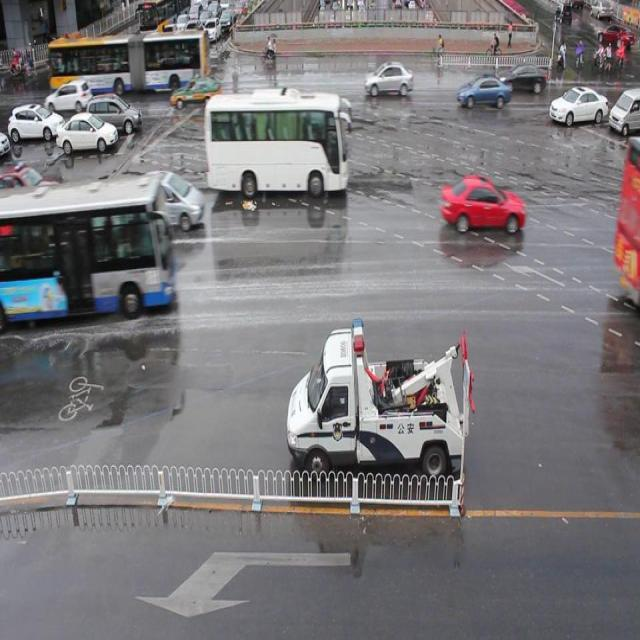car: (439, 173, 524, 235), (132, 172, 205, 235), (548, 82, 606, 123), (458, 75, 511, 109), (170, 75, 220, 111), (362, 62, 412, 97), (498, 62, 546, 97)
van: (1, 175, 173, 320), (204, 92, 348, 192), (614, 134, 640, 300)
